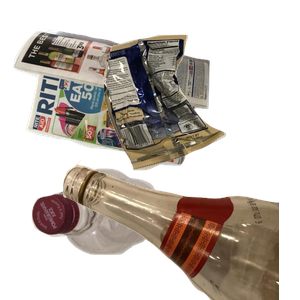glass: (60, 120, 300, 300)
paper: (11, 27, 213, 185)
plastic: (29, 166, 183, 300)
trash: (101, 32, 300, 195)
